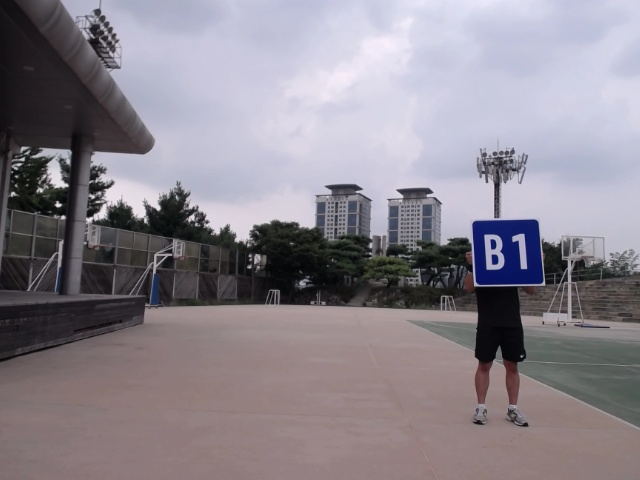delivery_b1: (471, 219, 545, 286)
